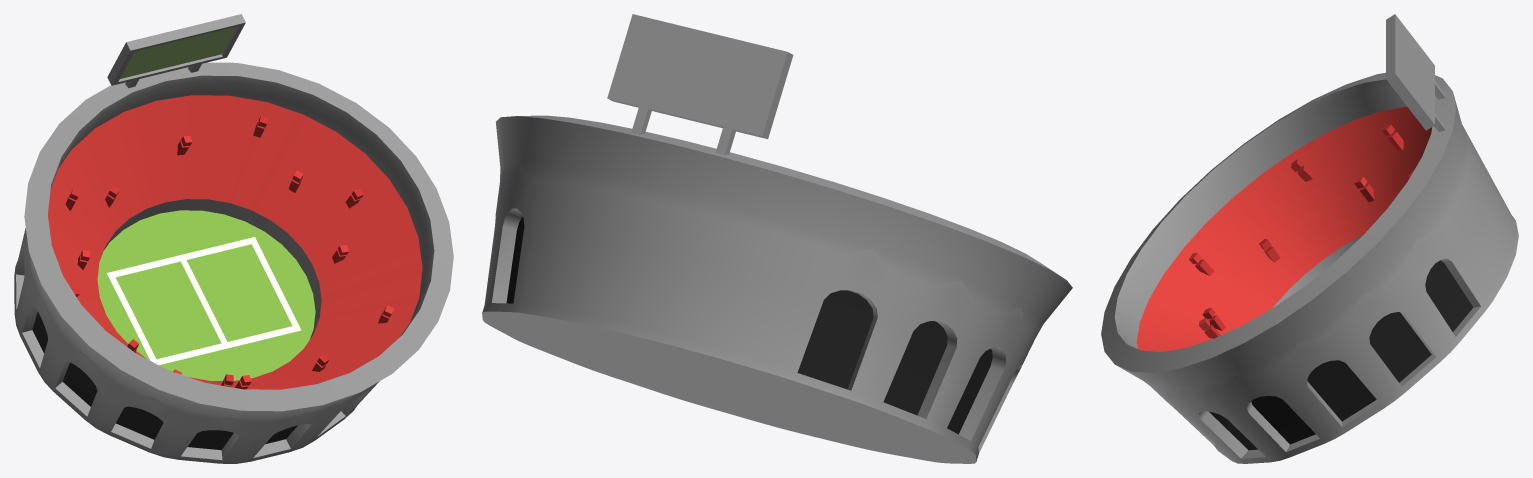
Rendered from stadium.glb.
3 renders of one model, left to right at view 1: azimuth 30°, elevation 25°; view 2: azimuth 150°, elevation 25°; view 3: azimuth 270°, elevation 25°, orthographic. The views are drawn at different scales.
Parts seen in each view (by area): view 1: Circle.2343; view 2: Circle.2343; view 3: Circle.2343.
Part boxes in pixels (x1,y1,x2,y2): Circle.2343: (14,14,453,463); Circle.2343: (482,14,1072,463); Circle.2343: (1101,14,1518,463).
Size of the model in its own units: 2.2 by 1.94 by 1.9.
Materials: 1 (1 with a texture image).
